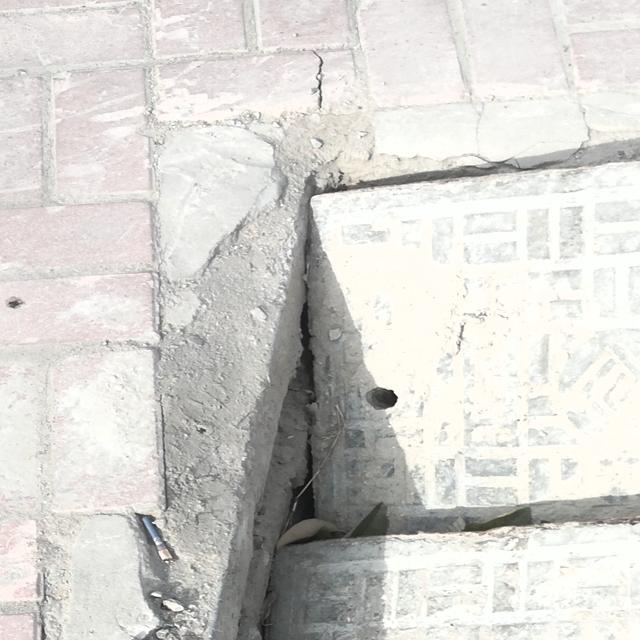uncovered: (100, 97, 640, 640)
